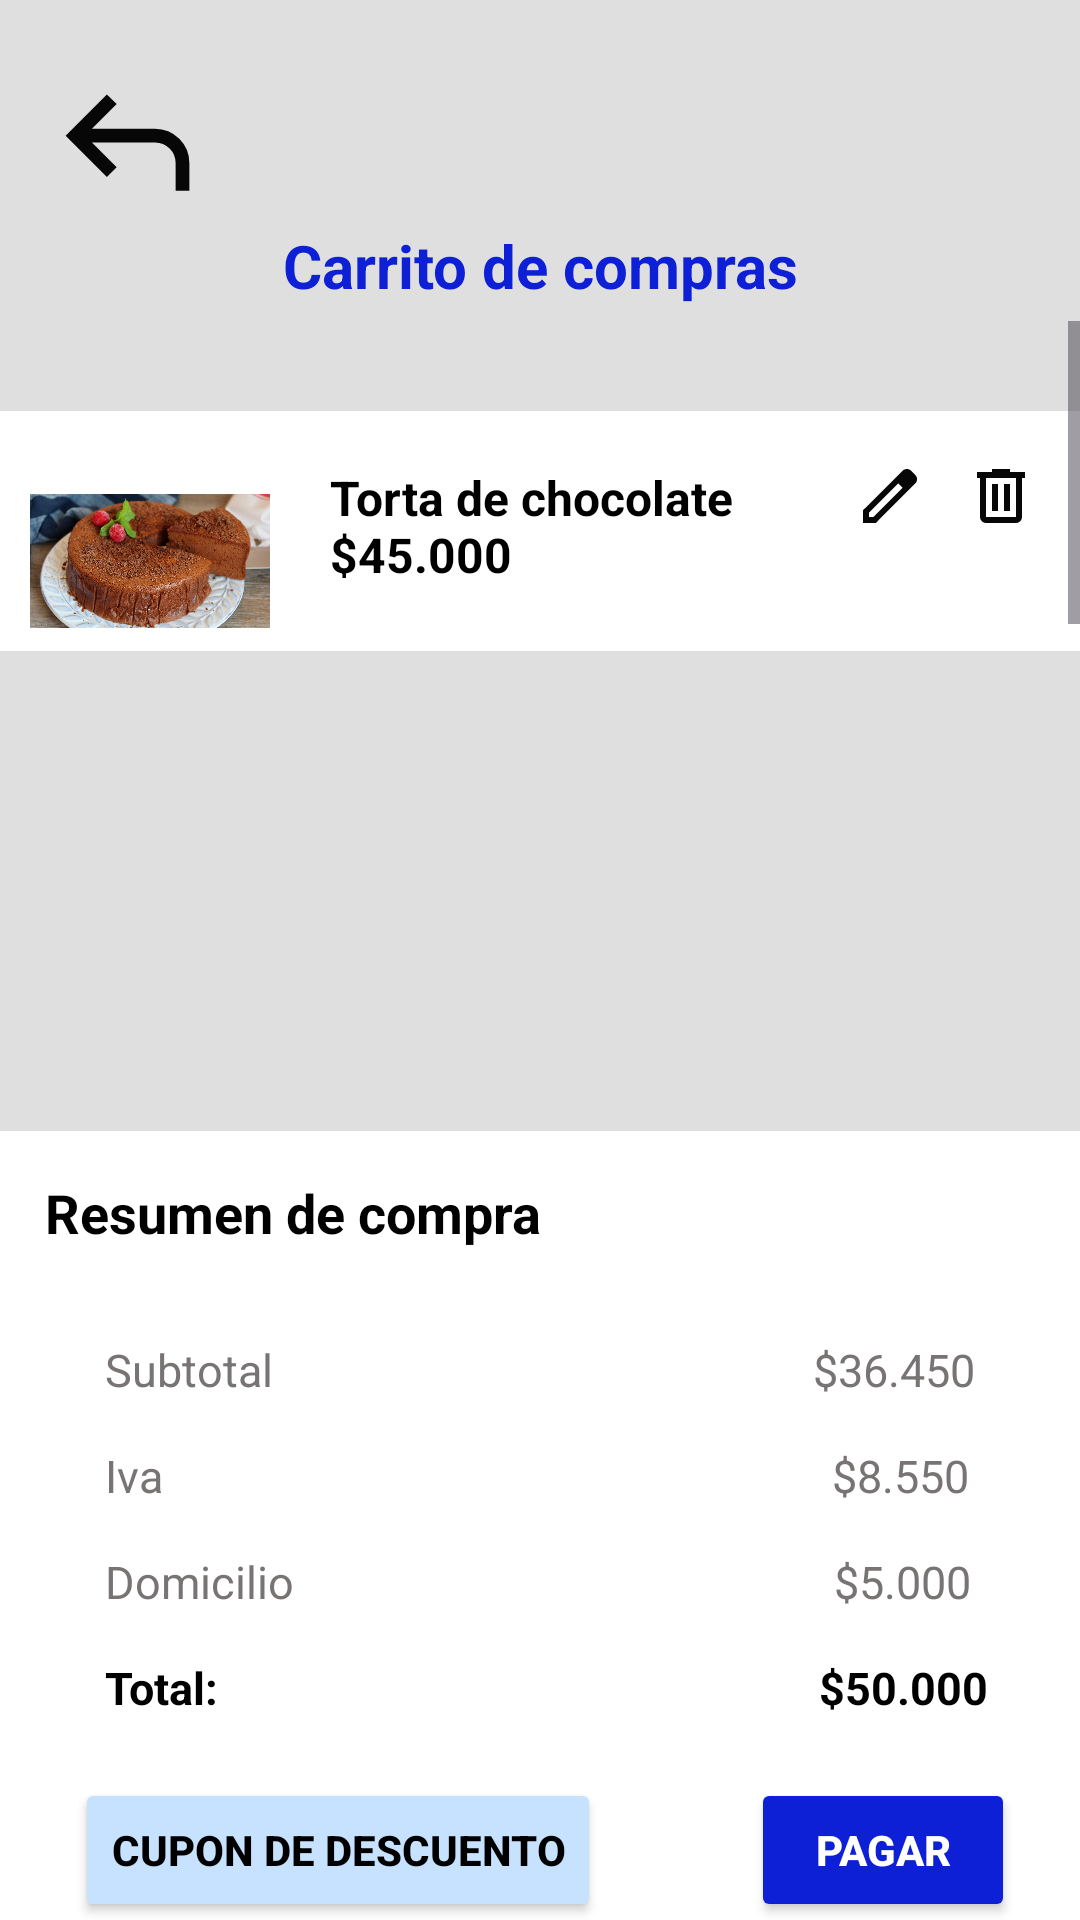

Icon bounding boxes for this 1080 x 1920 phone screenshot, format (left=x1, top=y1, right=x2, bottom=y2):
editar: (left=863, top=469, right=917, bottom=523)
eliminar: (left=977, top=469, right=1025, bottom=523)
regresar: (left=65, top=94, right=190, bottom=191)
